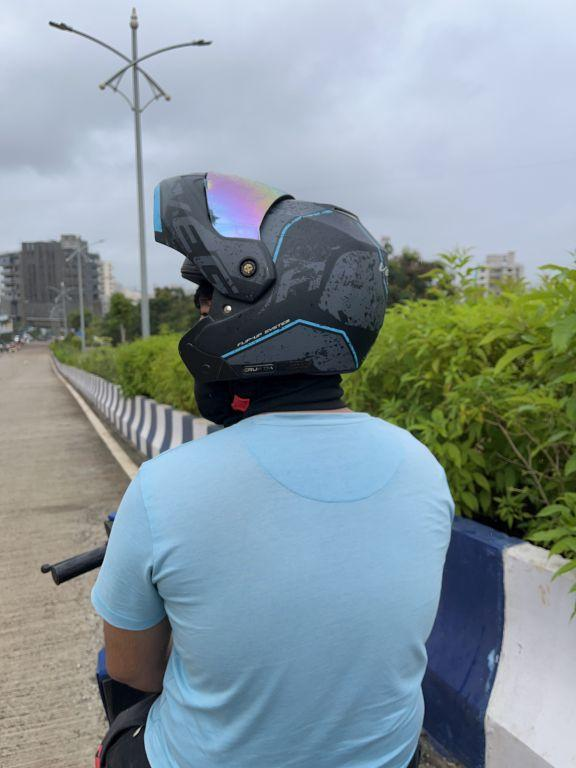helmet: (139, 149, 402, 409)
